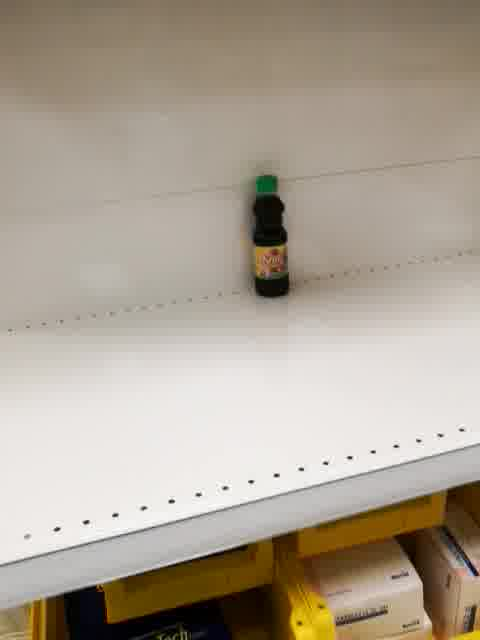cookingoil: (249, 171, 291, 298)
